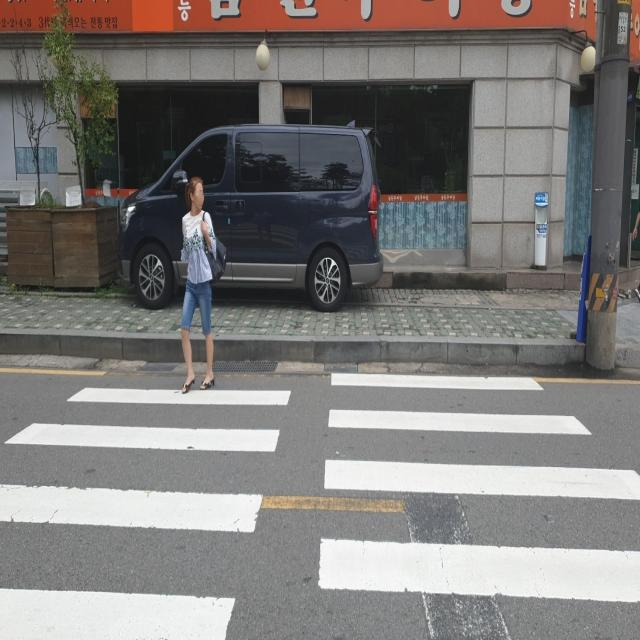횡단보도: (0, 367, 640, 640)
